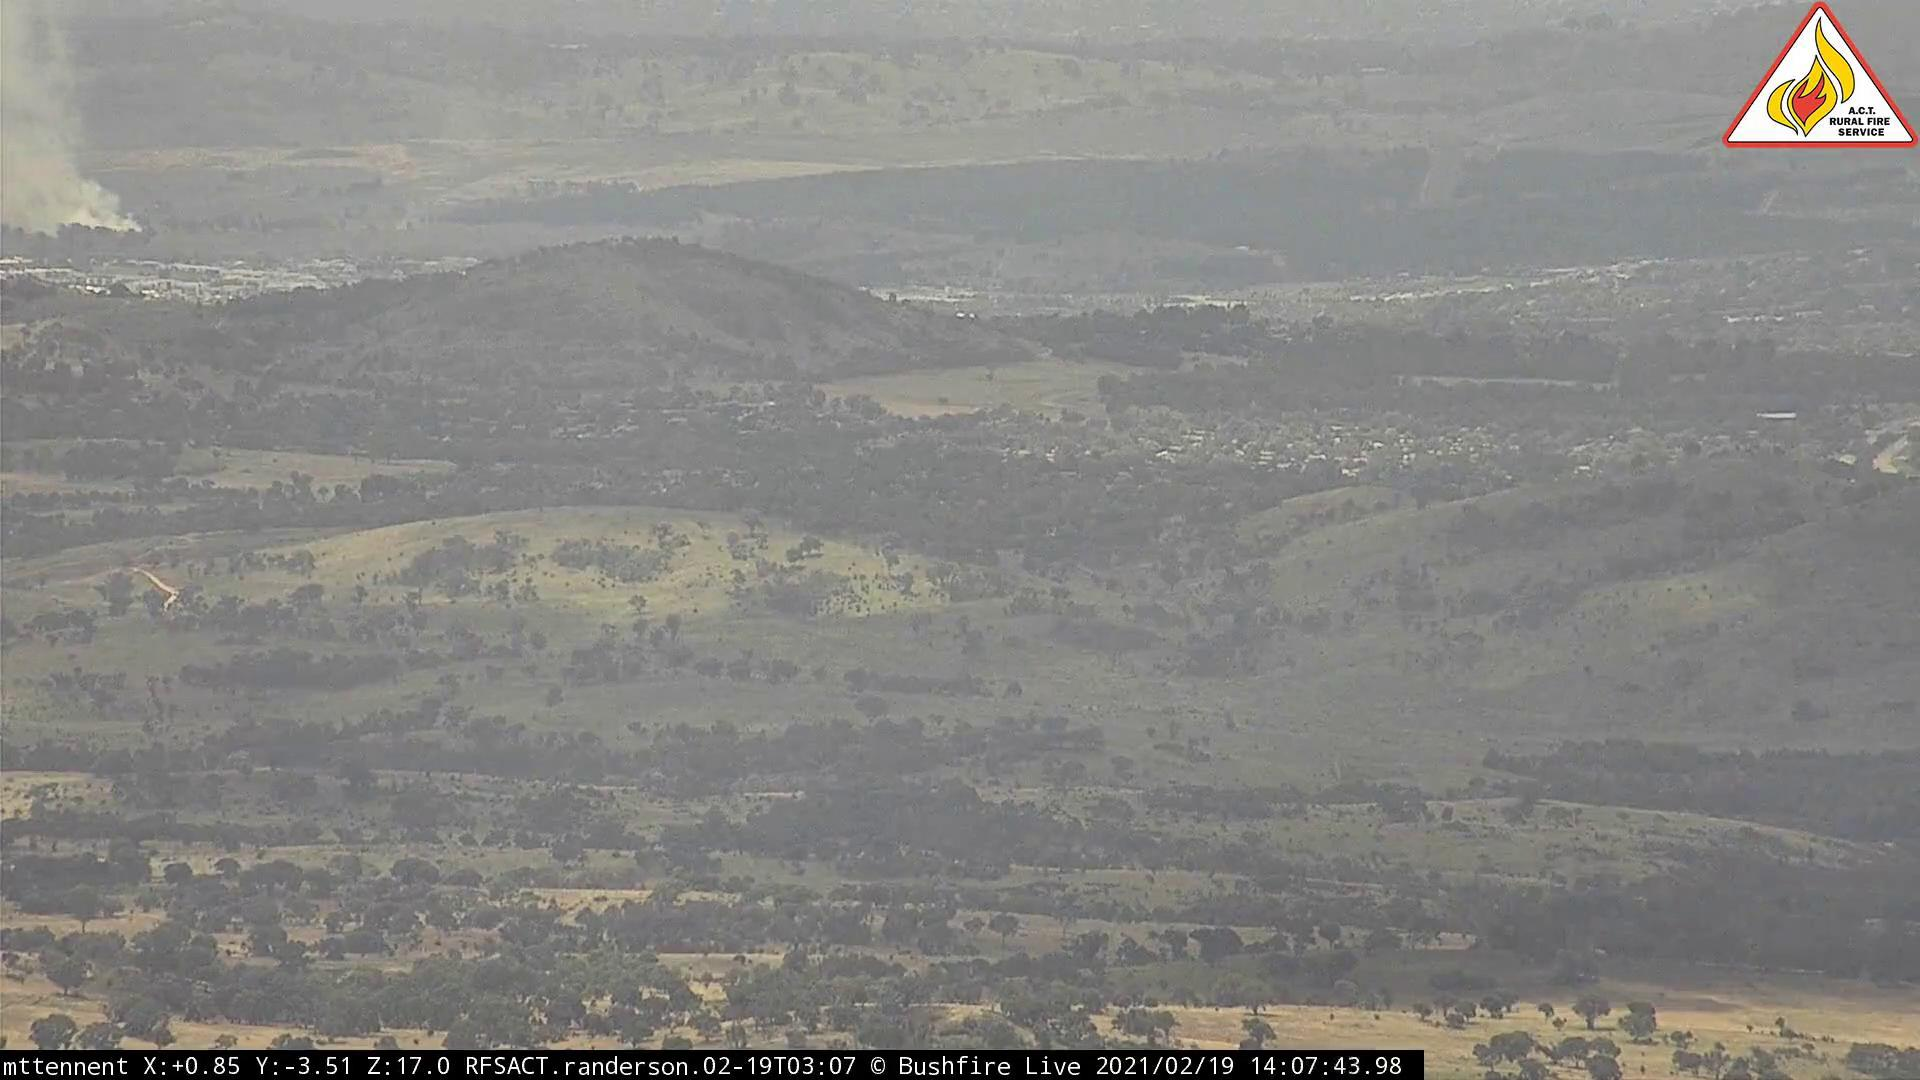Smoke: (3, 3, 156, 248)
